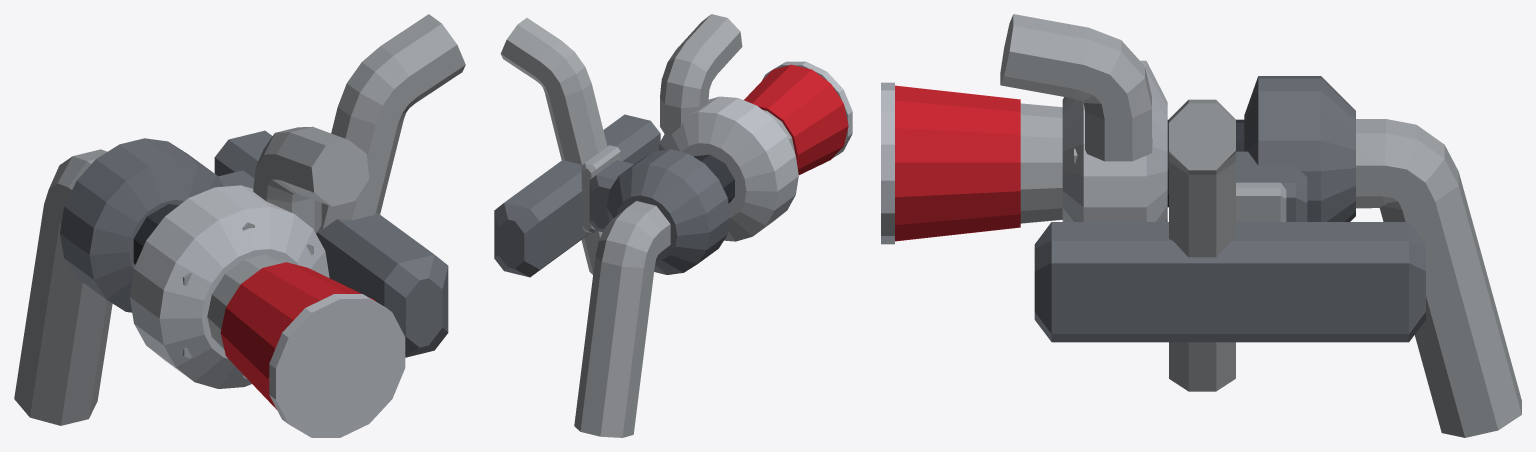
File: ridgeback_4x4.glb
3 renders of one model, left to right at view 1: azimuth 30°, elevation 25°; view 2: azimuth 150°, elevation 25°; view 3: azimuth 270°, elevation 25°, orthographic. The views are drawn at different scales.
Parts seen in each view (by area): view 1: model; view 2: model; view 3: model.
Boxes of the visible parts, left/top/right/bottom form: model: left=14, top=14, right=465, bottom=437; model: left=494, top=14, right=852, bottom=437; model: left=881, top=14, right=1521, bottom=437.
Bounding box in the file's own units: 0.3075 × 0.3554 × 0.4587.
2 materials, 1 textured.
